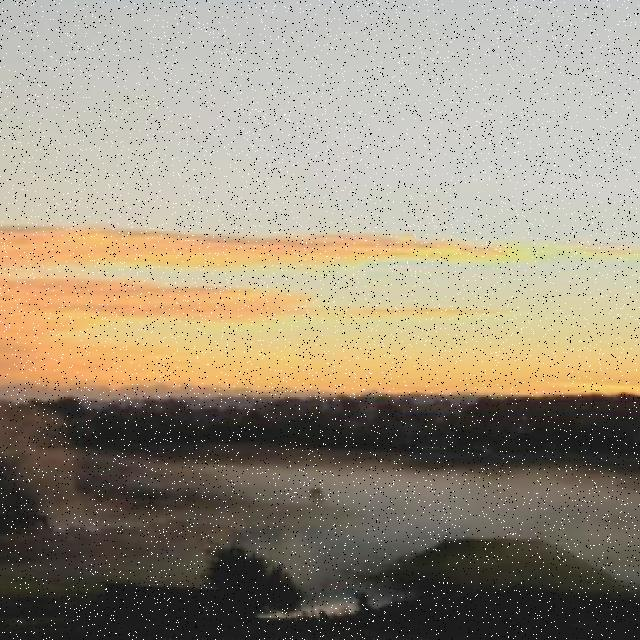As: (1, 211, 563, 353)
